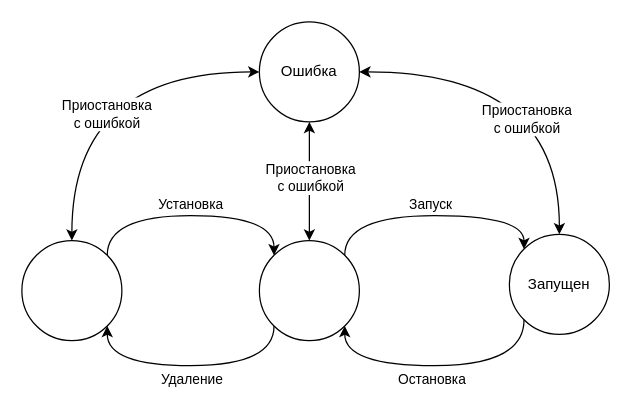
The diagram is 631 pixels wide and 409 high, and some of its shapes have lost their labels. The box of each missing label's shape, as (x1, y1, x2, y2) in pixels:
Зарегистри-рован: (21, 239, 122, 341)
Установлен: (258, 239, 359, 341)
